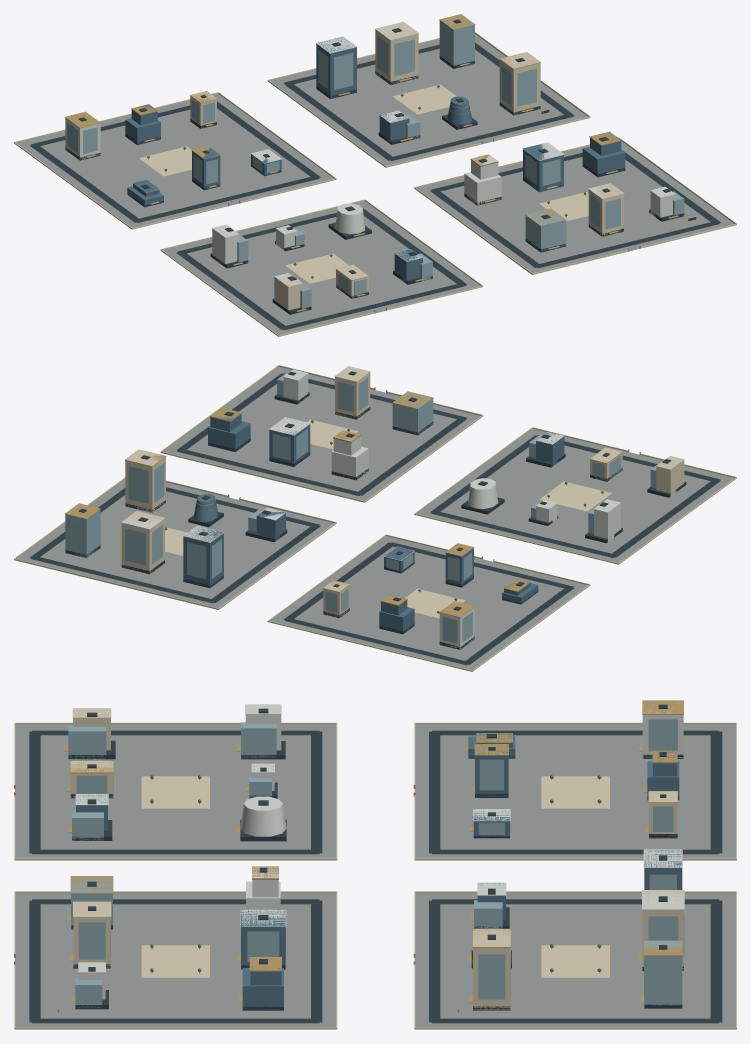
The model's file is GC-TILE-13-14.glb.
3 views of the same model, one above another, from view 1: azimuth 30°, elevation 25°; view 2: azimuth 150°, elevation 25°; view 3: azimuth 270°, elevation 25° (orthographic). The views are drawn at different scales.
Visible parts, largest first — view 1: GC-TILE-13-14-paving, GC-TILE-13-14-dark, GC-TILE-13-14-ivory, GC-TILE-13-14-glass, GC-TILE-13-14-blue, GC-TILE-13-14-white, GC-TILE-13-14-gold; view 2: GC-TILE-13-14-paving, GC-TILE-13-14-dark, GC-TILE-13-14-ivory, GC-TILE-13-14-glass, GC-TILE-13-14-blue, GC-TILE-13-14-white, GC-TILE-13-14-gold; view 3: GC-TILE-13-14-paving, GC-TILE-13-14-dark, GC-TILE-13-14-ivory, GC-TILE-13-14-glass, GC-TILE-13-14-white, GC-TILE-13-14-blue, GC-TILE-13-14-gold.
Part boxes in pixels (x1,y1,x2,y2): GC-TILE-13-14-paving: (16, 34, 734, 335); GC-TILE-13-14-dark: (30, 19, 720, 330); GC-TILE-13-14-ivory: (14, 22, 736, 336); GC-TILE-13-14-glass: (67, 17, 684, 311); GC-TILE-13-14-blue: (125, 37, 625, 283); GC-TILE-13-14-white: (65, 21, 675, 286); GC-TILE-13-14-gold: (65, 14, 696, 313); GC-TILE-13-14-paving: (16, 367, 734, 670); GC-TILE-13-14-dark: (30, 371, 720, 665); GC-TILE-13-14-ivory: (14, 365, 736, 671); GC-TILE-13-14-glass: (65, 372, 664, 643); GC-TILE-13-14-blue: (183, 408, 564, 633); GC-TILE-13-14-white: (121, 366, 684, 649); GC-TILE-13-14-gold: (65, 387, 640, 617); GC-TILE-13-14-paving: (15, 724, 735, 1027); GC-TILE-13-14-dark: (29, 704, 722, 1023); GC-TILE-13-14-ivory: (14, 708, 736, 1029); GC-TILE-13-14-glass: (68, 719, 684, 1008); GC-TILE-13-14-white: (72, 700, 684, 999); GC-TILE-13-14-blue: (76, 733, 682, 1010); GC-TILE-13-14-gold: (14, 700, 683, 1009).
Size of the model in its own units: 759 by 75.46 by 760.
